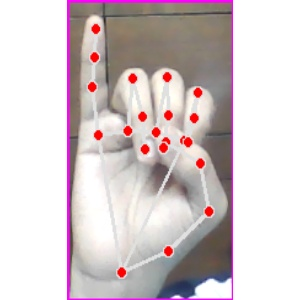I: (68, 1, 232, 300)
